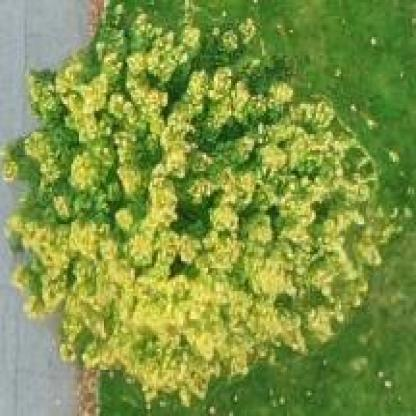Deciduous Tree: (10, 1, 393, 392)
